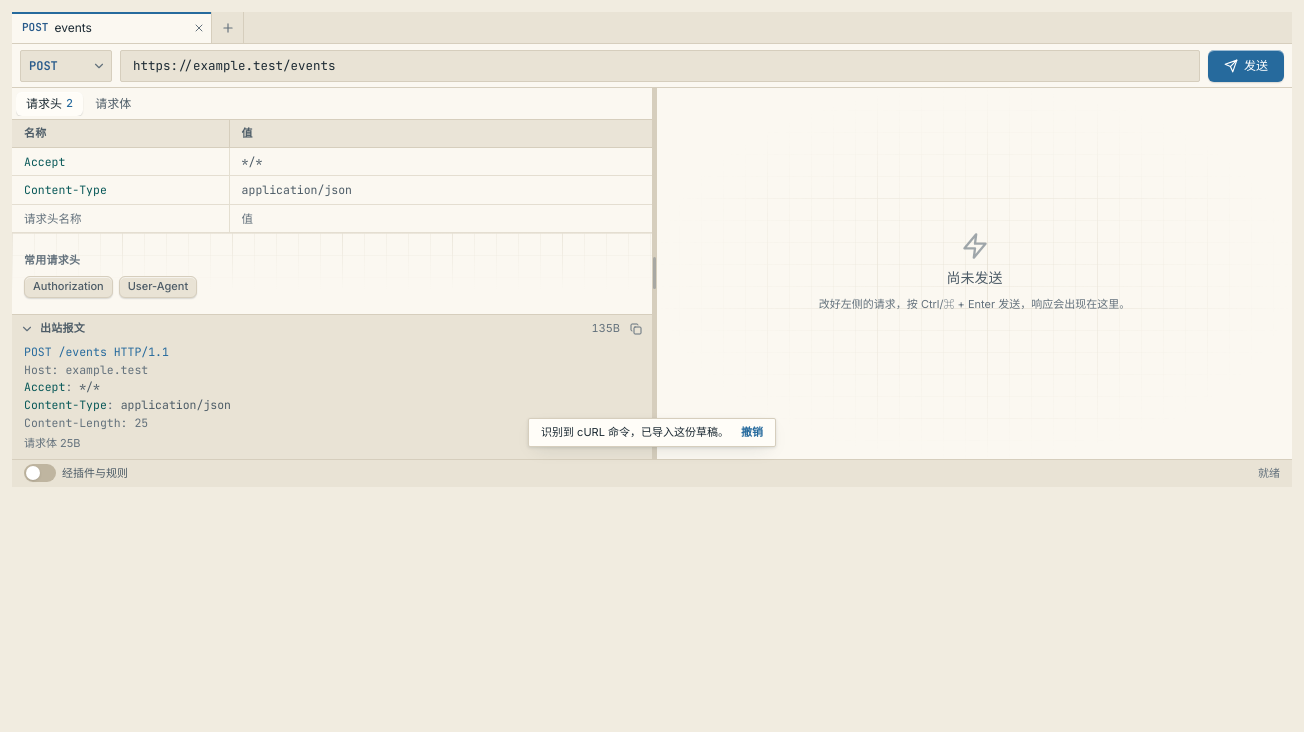
Scenario: SSE 关闭通知丢失时，HTTP completed 通知补回流终态并恢复发送
Click the button "发送". click: [1246, 66]
box: [1208, 50, 1284, 82]
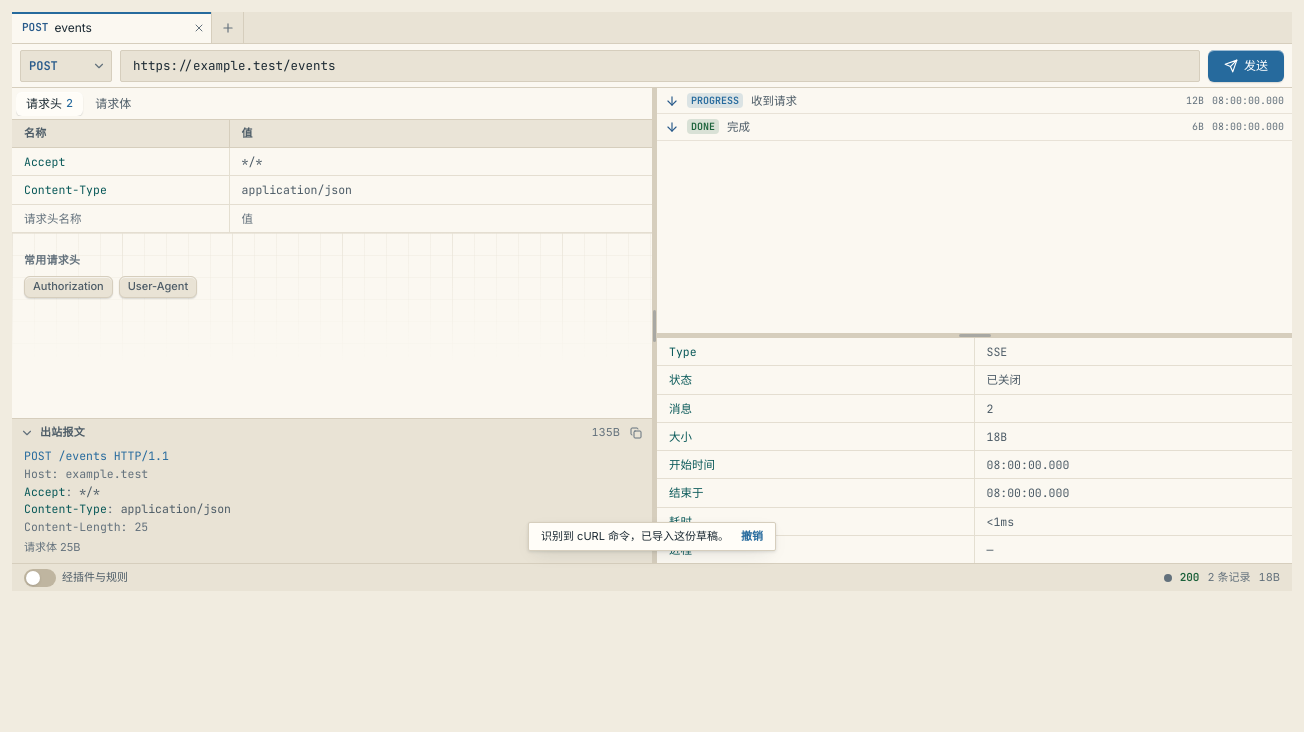
Now the text "收到请求" is shown, box [751, 93, 797, 108]
Now the text "完成" is shown, box [727, 119, 750, 134]
Now the number of buttons "PROGRESS 收到请求 12B 08:00:00.000" is 2, box [657, 88, 1292, 114]; [657, 114, 1292, 141]
